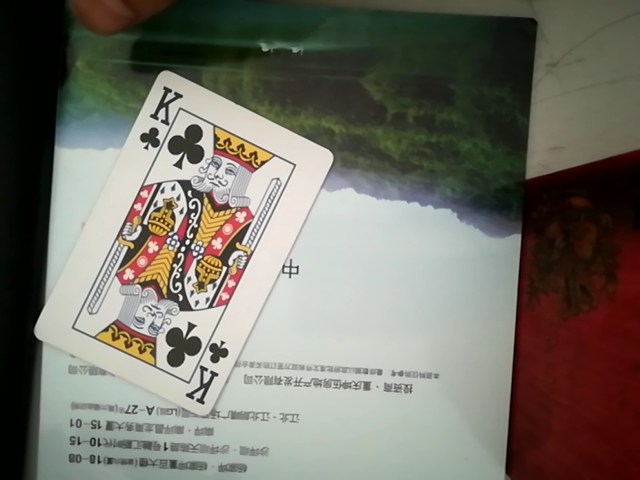mh k: (43, 66, 328, 401)
